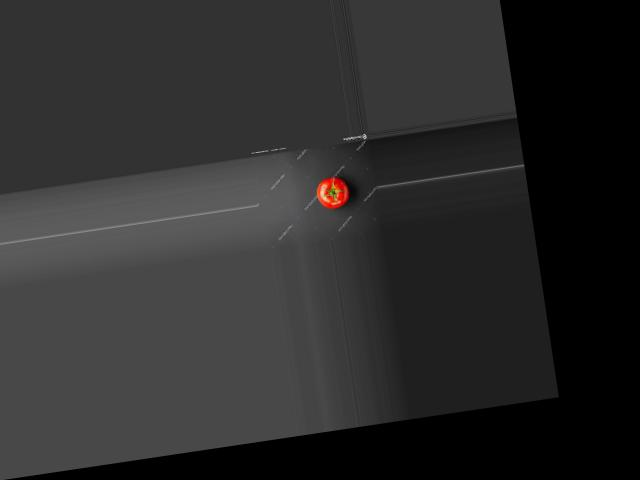tomato: (313, 174, 350, 210)
